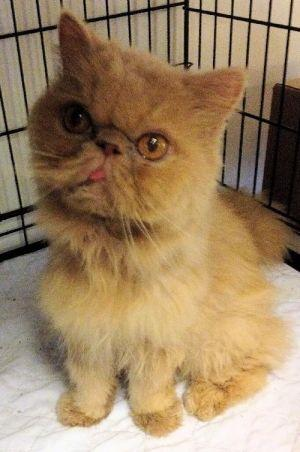persian: (15, 1, 260, 247)
